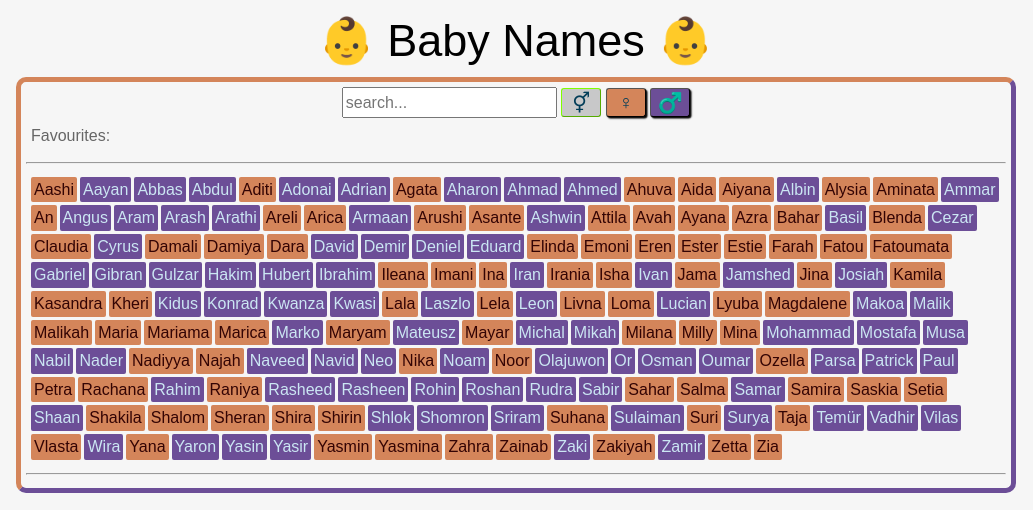
Test: renders the homepage › allows to filter by female gender
Click the button with class "gender-female-off" at (626, 103), box x1=606 y1=88 x2=646 y2=117
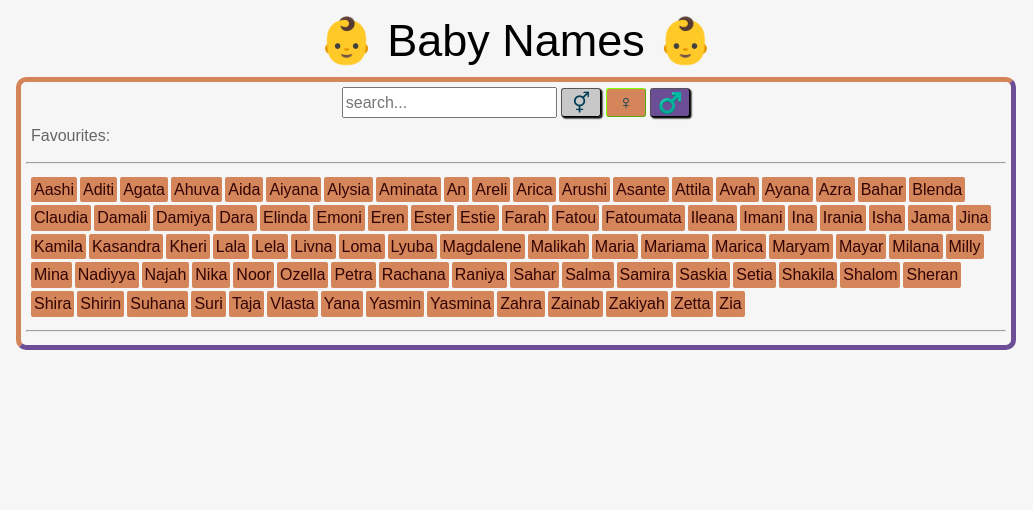
Check: the text "Aayan" is gone
